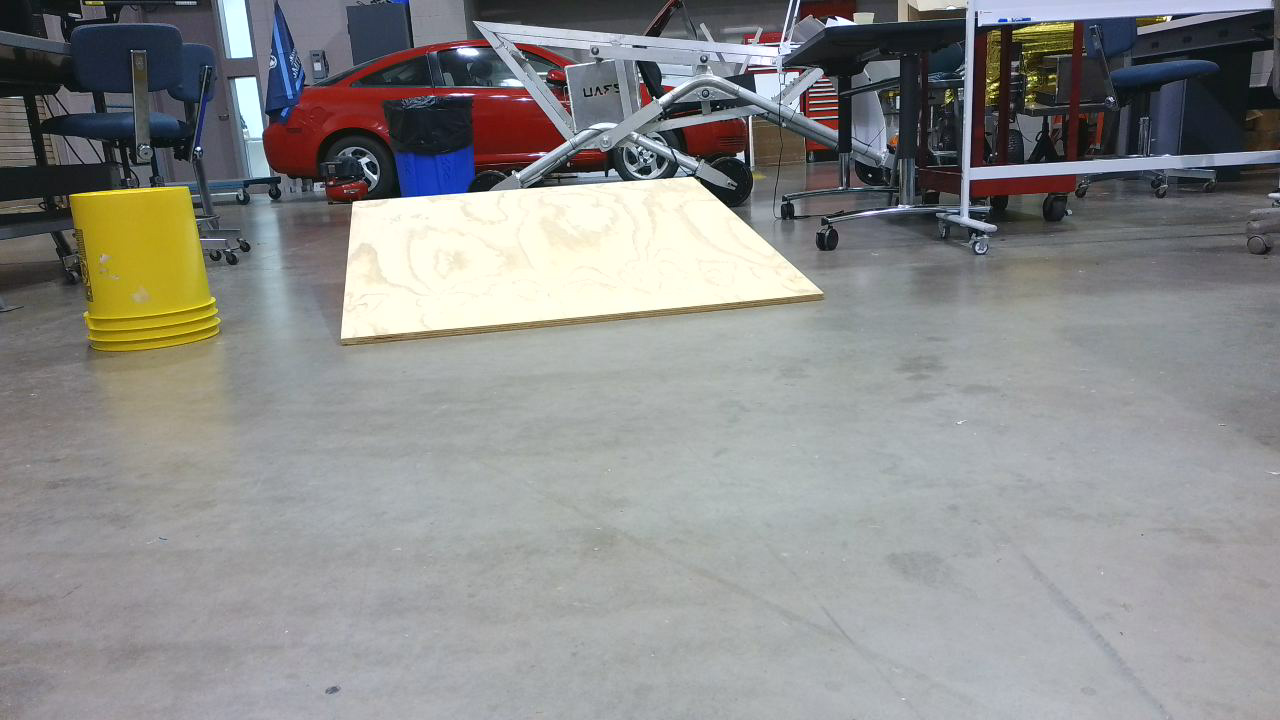concrete_block: (338, 181, 838, 353)
yellow_bucket: (73, 190, 233, 360)
